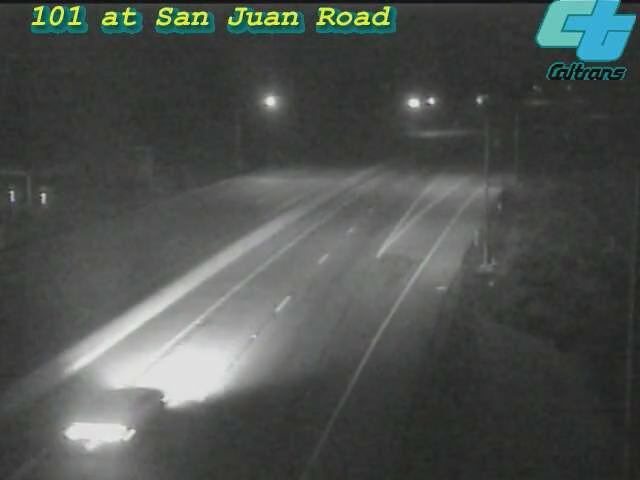vehicle: (59, 357, 169, 467)
